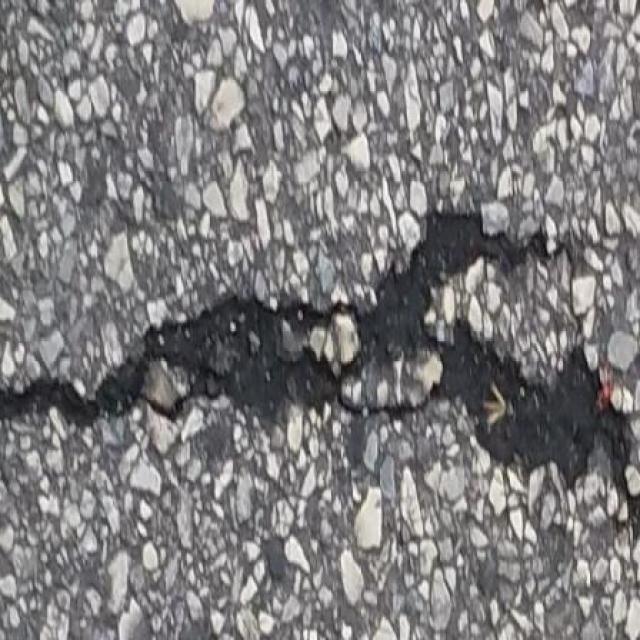Crack: (0, 209, 640, 496)
